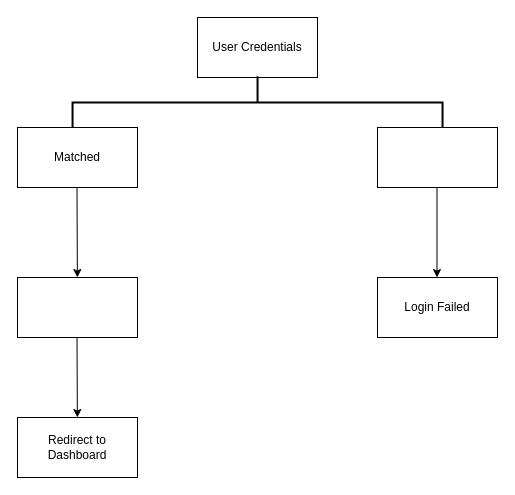
Some shapes in this 515 by 495 pixel diagram are drawn without their labels. The shapes that lost their labels are listed below. From the top down, each one's centre as x and y in pixels, then its label:
At point 437,157: "Not Matched".
At point 77,307: "Start Session on email".
